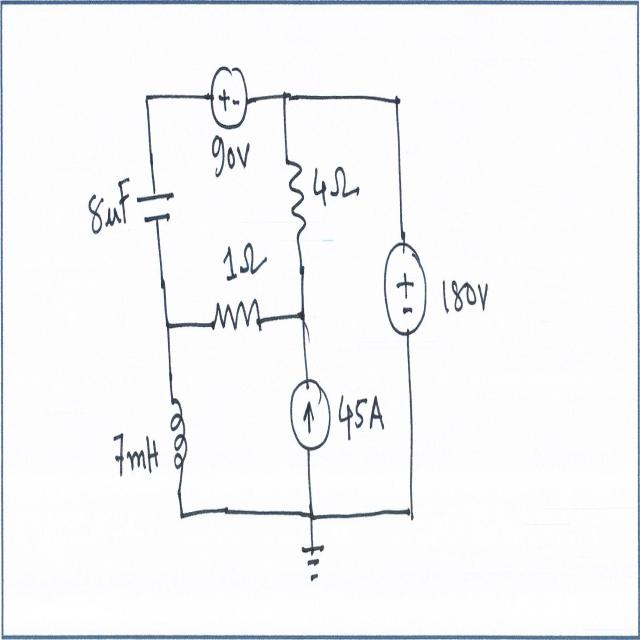capacitor: (136, 185, 176, 235)
current_source: (289, 369, 335, 454)
ground: (298, 542, 327, 592)
inductor: (166, 392, 188, 498)
resistor: (208, 294, 264, 342), (283, 147, 311, 240)
voltage_source: (381, 226, 427, 346), (208, 58, 252, 136)
